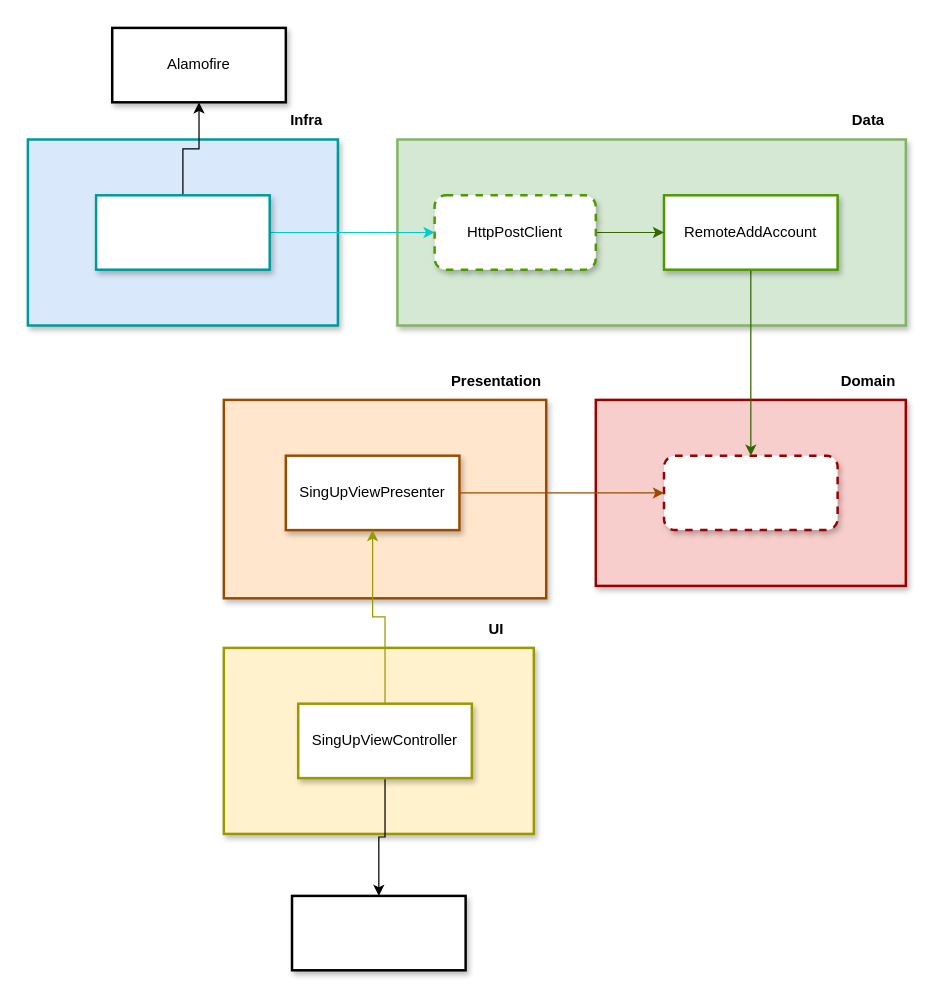
This 935x1001 diagram has some shape labels left out. The shapes that lost their labels are listed below. From the top down, each one's centre as x and y in pixels, then its label:
the point at 183,233: AlamofireAdapter
the point at 751,494: AddAccount
the point at 379,934: UIKit
